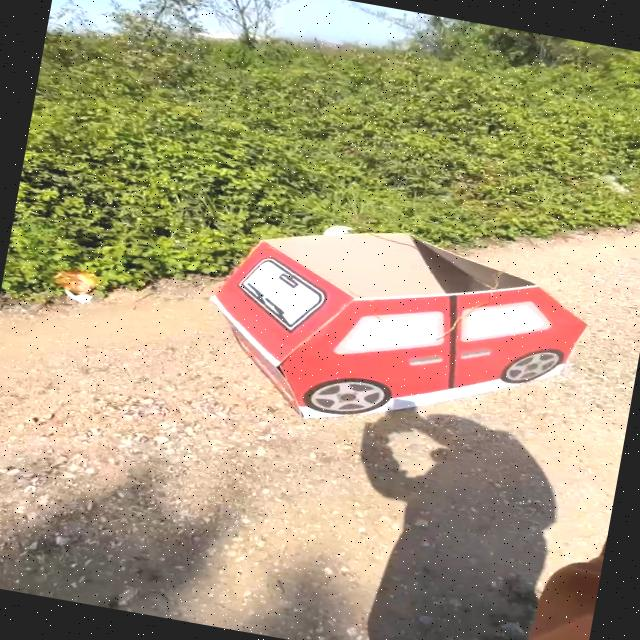red_car: (176, 183, 622, 483)
